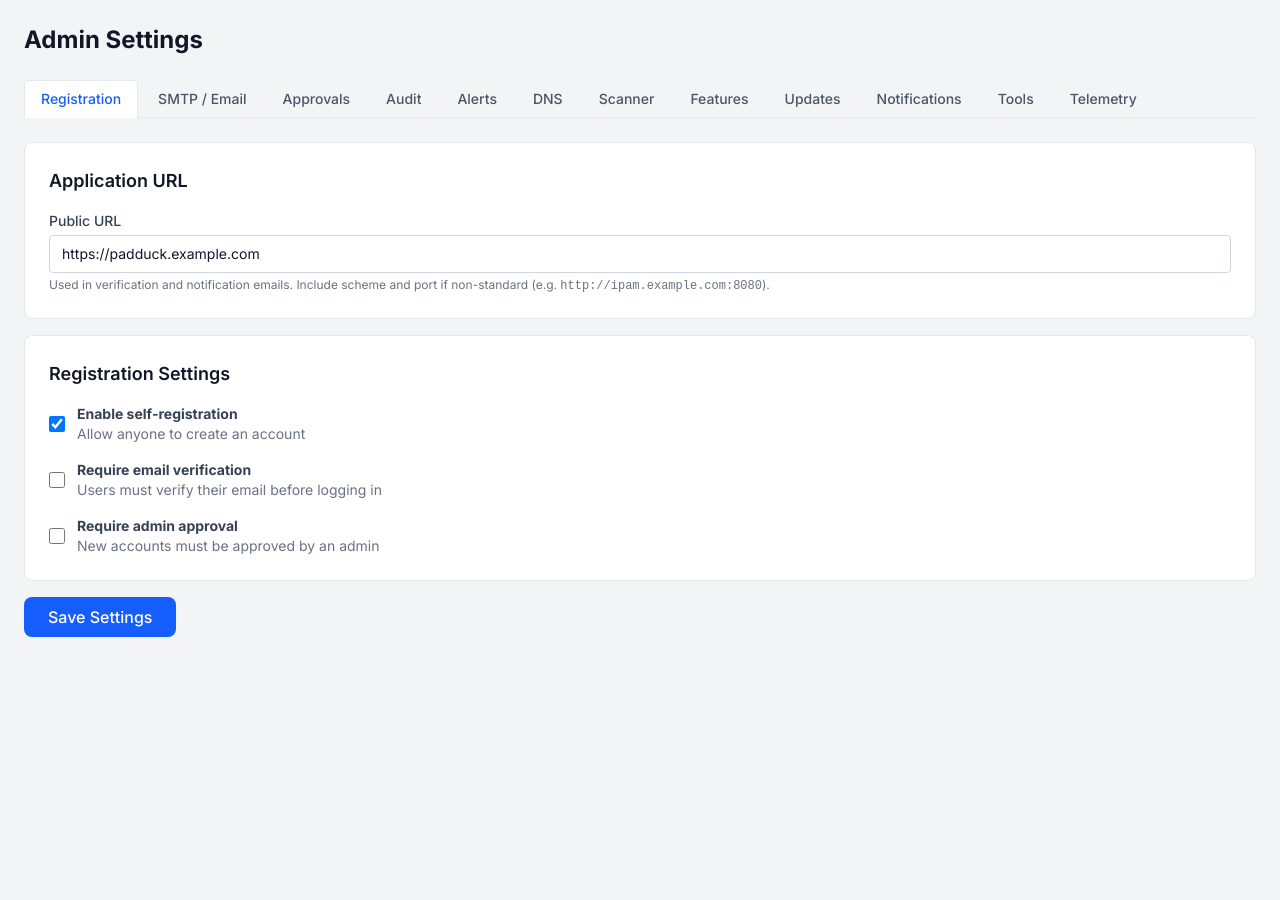
Test case: AdminSettingsPage shell › switches tabs and renders the matching tab component
The image size is (1280, 900).
Expected: the heading "Registration Settings" is shown, top-left (49, 363), bottom-right (230, 384)
Click the button "SMTP / Email" at (202, 98), box top-left (142, 80), bottom-right (263, 117)
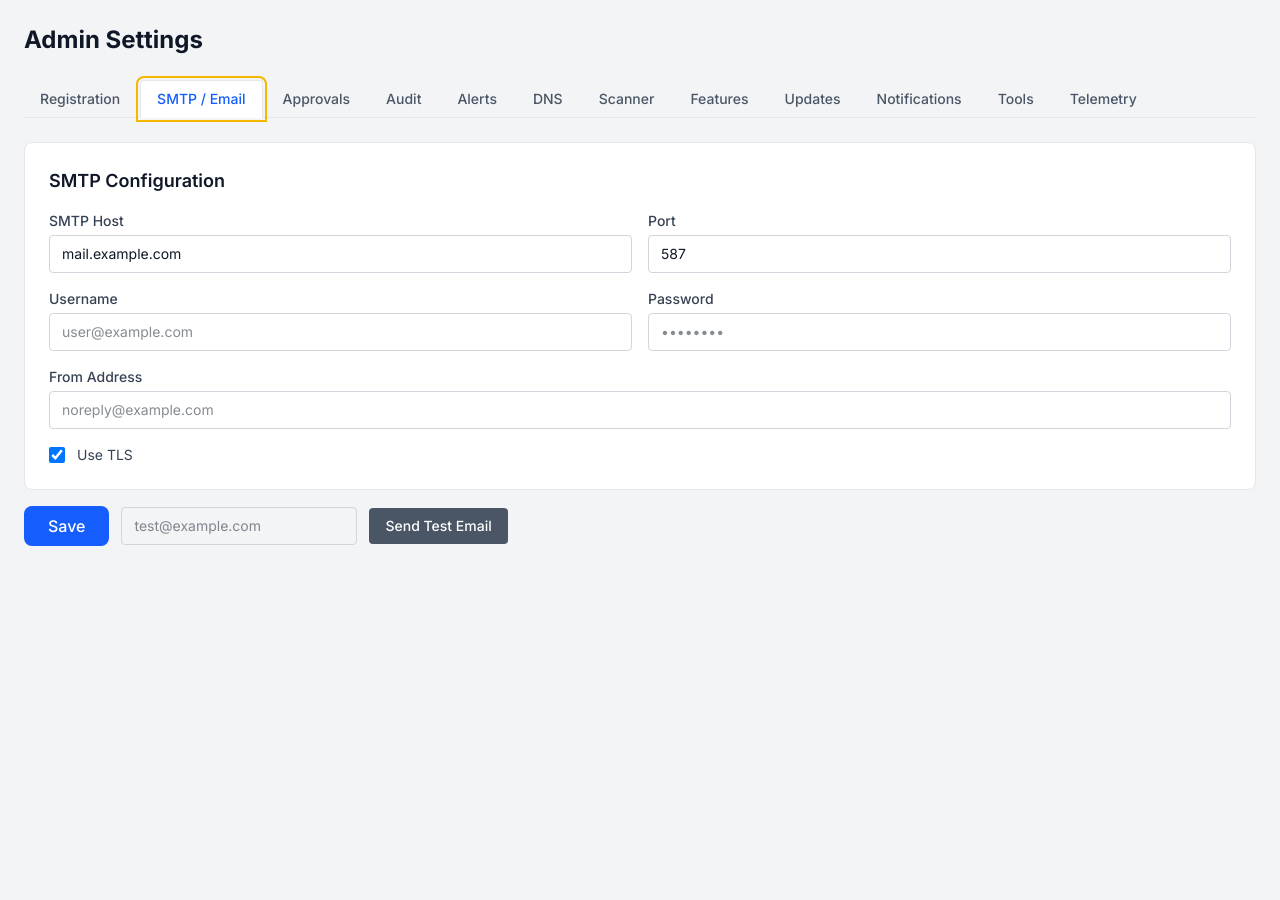
Now the heading "SMTP Configuration" is shown, box top-left (49, 170), bottom-right (225, 191)
Now the heading "Registration Settings" is gone
Click the button "Audit" at (404, 98), box top-left (370, 80), bottom-right (437, 117)
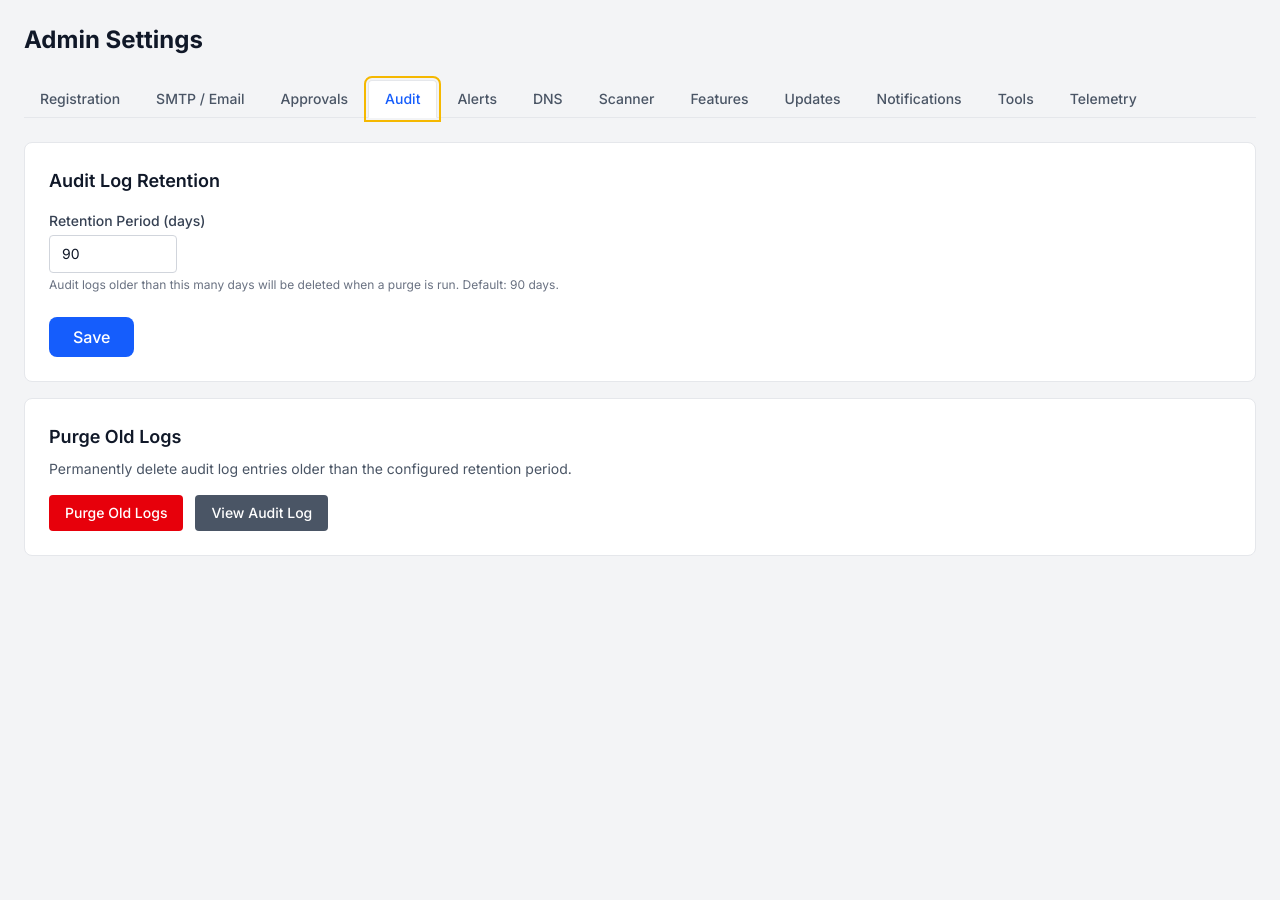
Now the heading "Audit Log Retention" is shown, box top-left (49, 170), bottom-right (220, 191)
